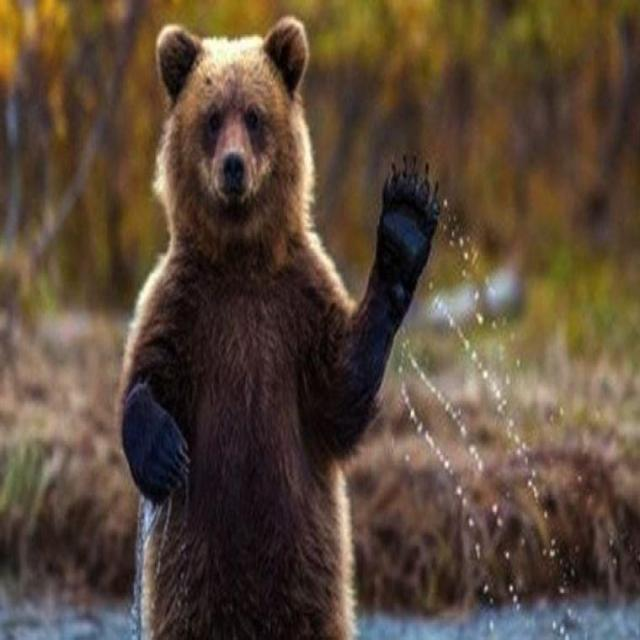Bear: (117, 16, 442, 640)
